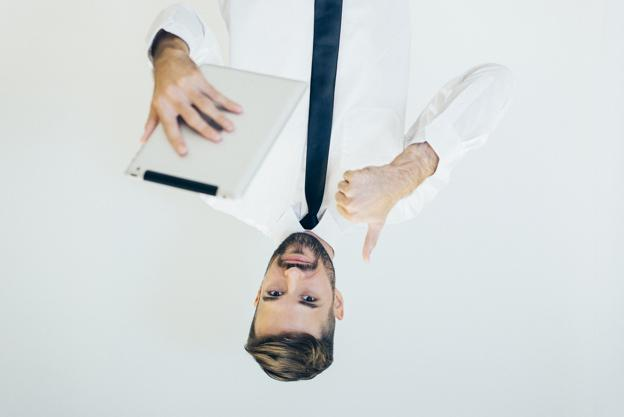thumbsdown: (335, 169, 377, 263)
